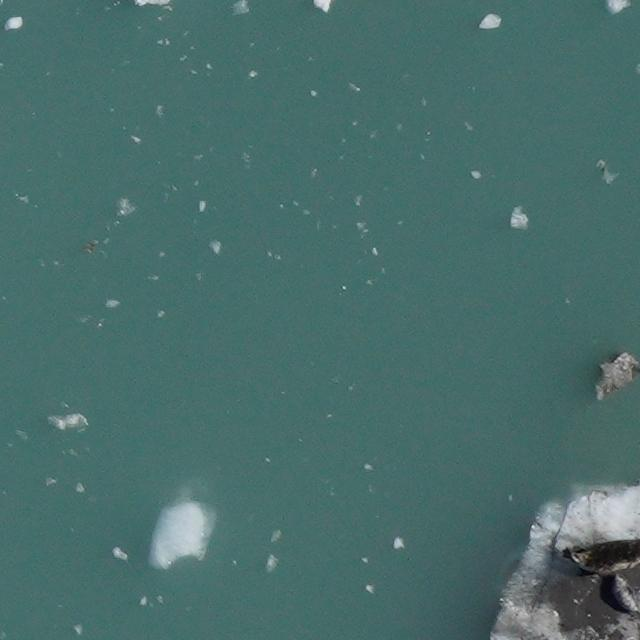seal: (558, 536, 640, 583), (606, 568, 640, 618)
